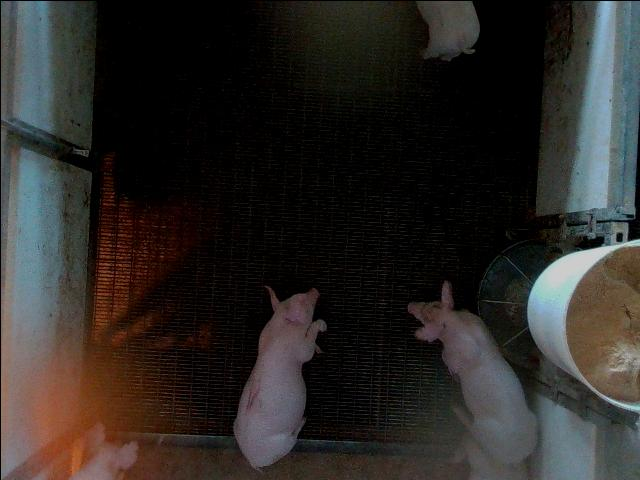pig-1: (232, 287, 325, 467)
